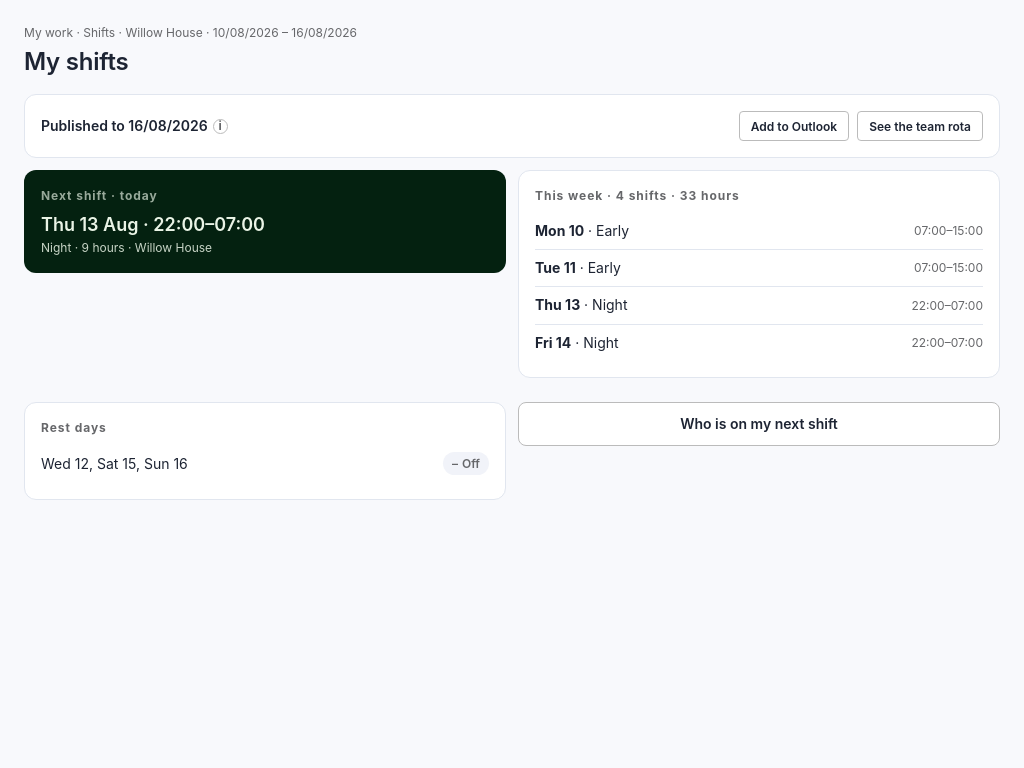
Test: My shifts › a published week shows the next shift, the week, rest days and the open shifts to claim, with full test id coverage
Check: the element with test id "shifts-published" shows "Published to 16/08/2026", box x1=41 y1=116 x2=228 y2=136
Check: the text with test id "shifts-week-head" reads "This week · 4 shifts · 33 hours", box x1=535 y1=188 x2=740 y2=203
Step 1. Click the button with test id "shifts-outlook" → (794, 126), box x1=739 y1=111 x2=849 y2=141
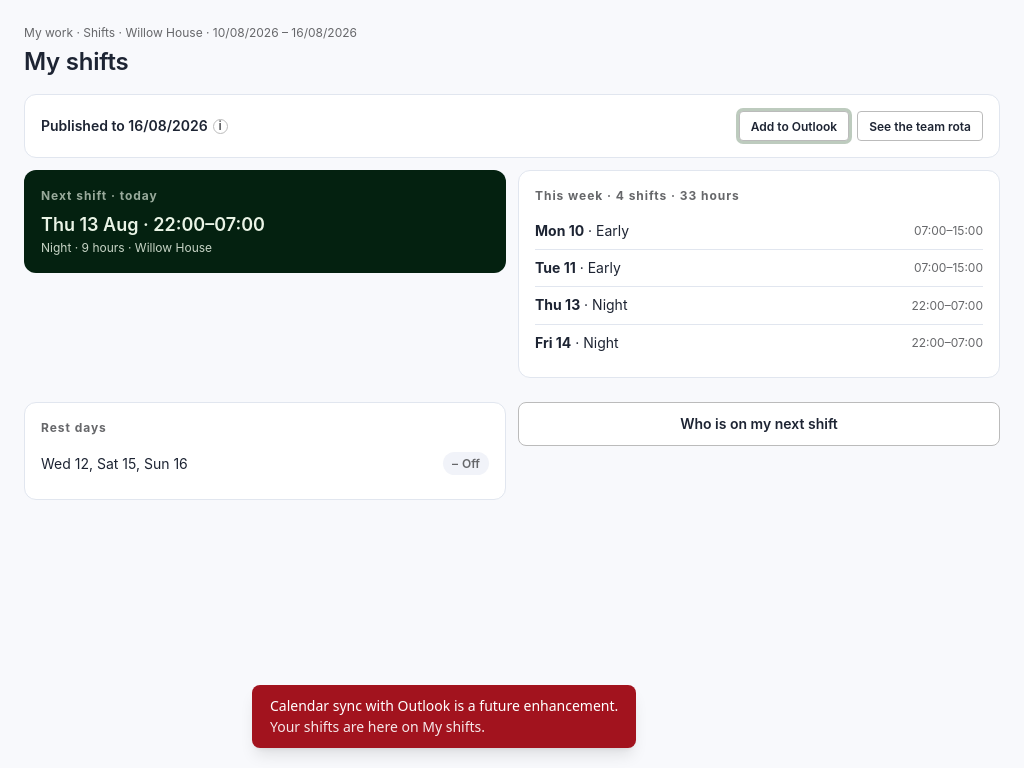
Check: the message with test id "toast-error" shows "Calendar sync with Outlook is a future enhancement.", box x1=270 y1=696 x2=618 y2=715
